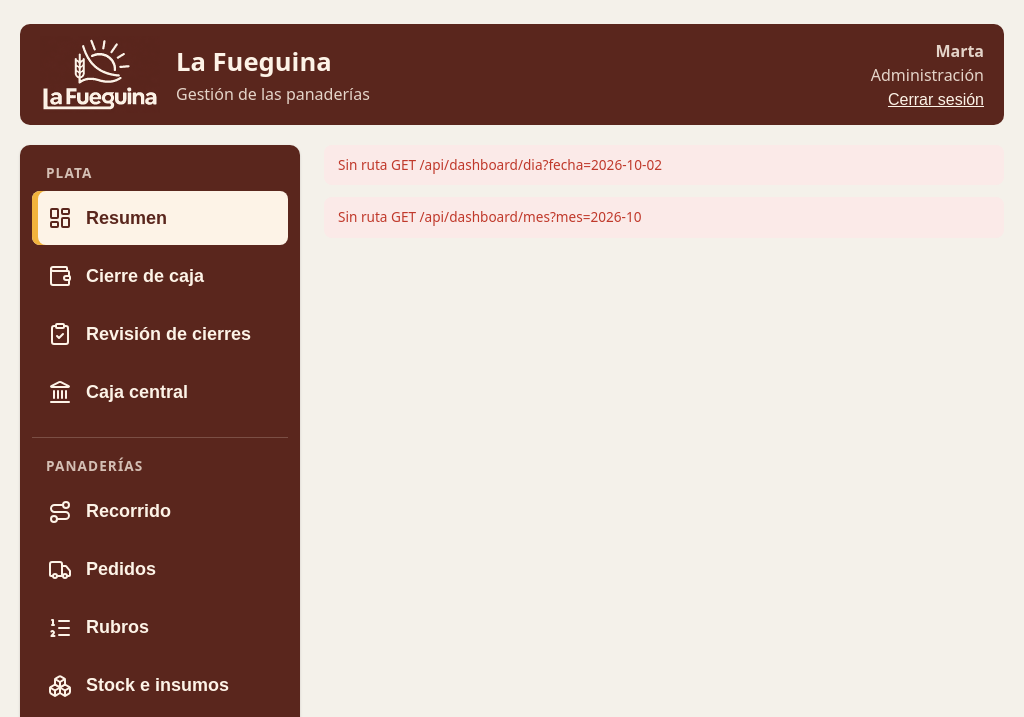
Test case: pedidos según el rol › el admin elige para qué sucursal pide
Click the button "Pedidos" at (160, 570), box [32,543,288,597]
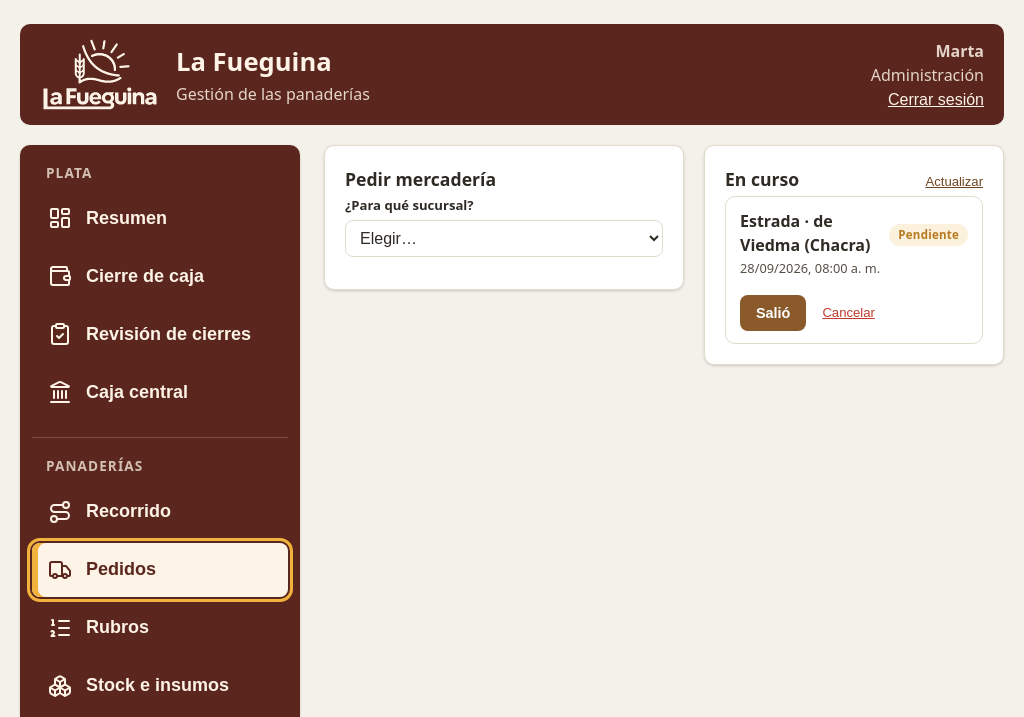
Expected: the dropdown labelled "¿Para qué sucursal?" is enabled, [345,220,663,257]
